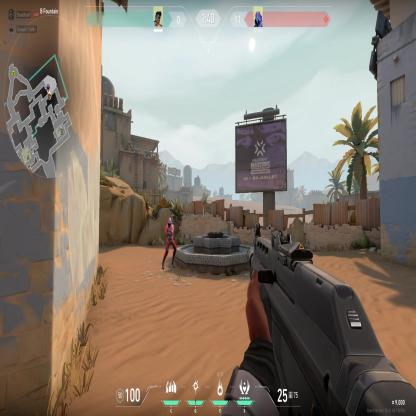enemy: (162, 216, 176, 270)
